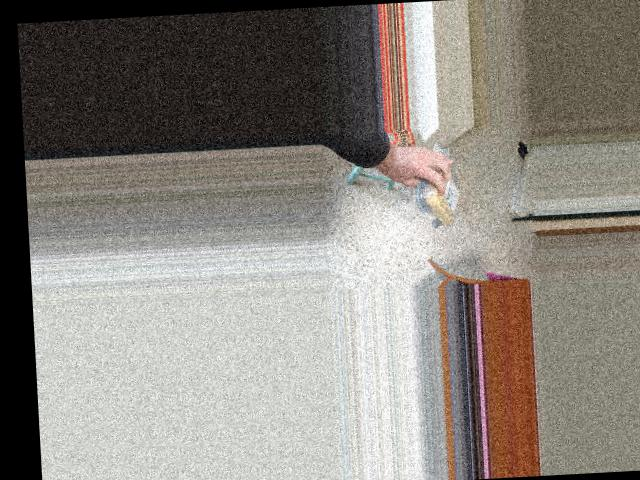cheese: (420, 152, 460, 228)
